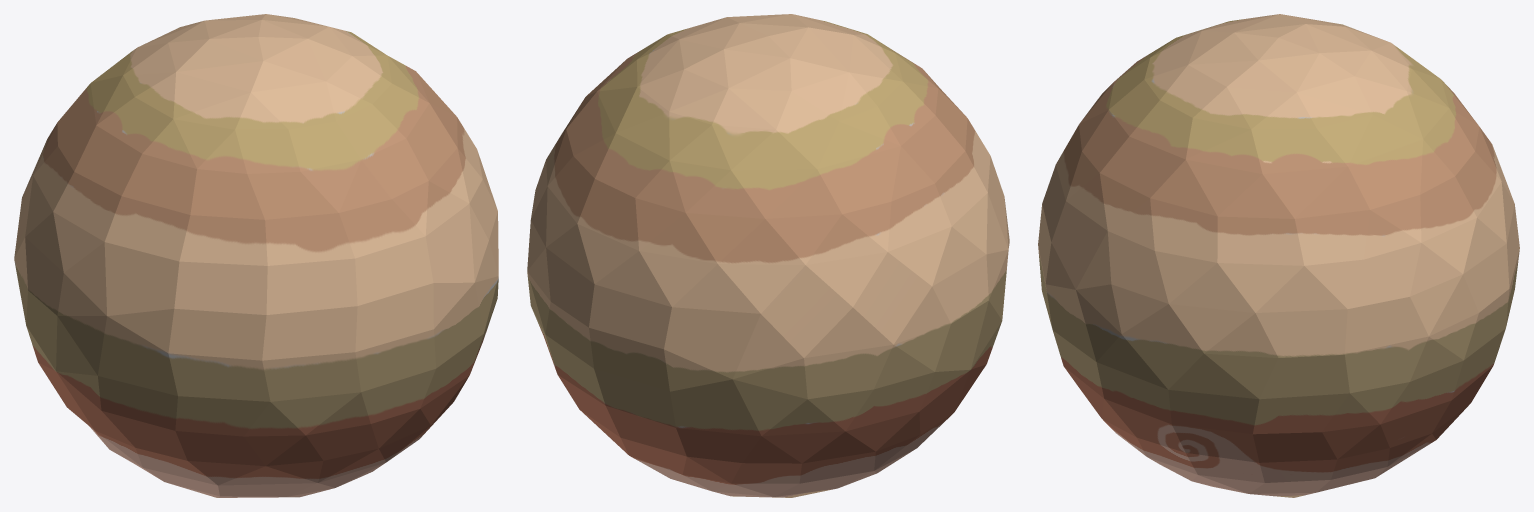
Rendered from JupiterCartoon2.fbx.
3 views of the same model, side by side, from view 1: azimuth 30°, elevation 25°; view 2: azimuth 150°, elevation 25°; view 3: azimuth 270°, elevation 25° (orthographic).
Parts seen in each view (by area): view 1: jupiter(obj); view 2: jupiter(obj); view 3: jupiter(obj).
Boxes of the visible parts, bbox=[...] form: jupiter(obj): bbox=[14, 14, 498, 497]; jupiter(obj): bbox=[527, 14, 1009, 497]; jupiter(obj): bbox=[1038, 14, 1519, 497].
Size of the model in its own units: 245 by 245 by 245.
Materials: 1 (1 with a texture image).
